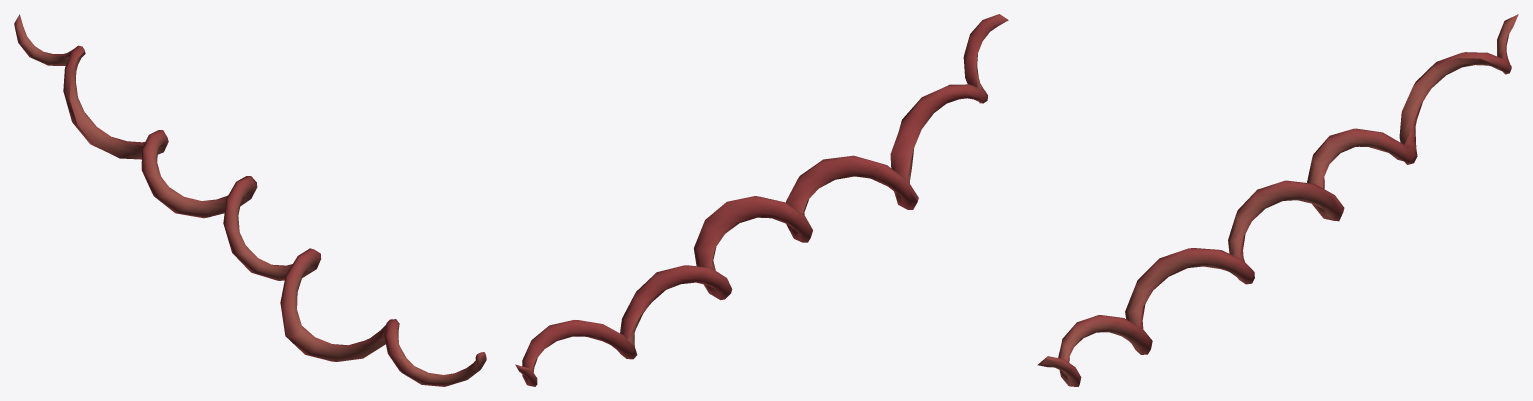
The model's file is microscopic-bacteria-corkscrew-bacterium_v3.glb.
3 renders of one model, left to right at view 1: azimuth 30°, elevation 25°; view 2: azimuth 150°, elevation 25°; view 3: azimuth 330°, elevation 25°, orthographic. The views are drawn at different scales.
Parts seen in each view (by area): view 1: Corkscrew Bacterium_v3; view 2: Corkscrew Bacterium_v3; view 3: Corkscrew Bacterium_v3.
Boxes of the visible parts, bbox=[...] form: Corkscrew Bacterium_v3: bbox=[14, 14, 486, 386]; Corkscrew Bacterium_v3: bbox=[515, 14, 1008, 386]; Corkscrew Bacterium_v3: bbox=[1037, 14, 1518, 386].
Size of the model in its own units: 0.0167 by 0.0163 by 0.15.
